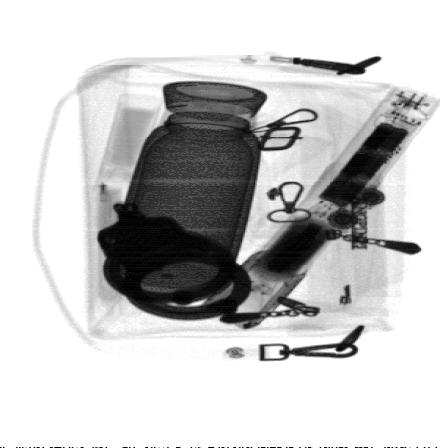Baton: (194, 83, 438, 331)
HandCuffs: (94, 200, 254, 322)
